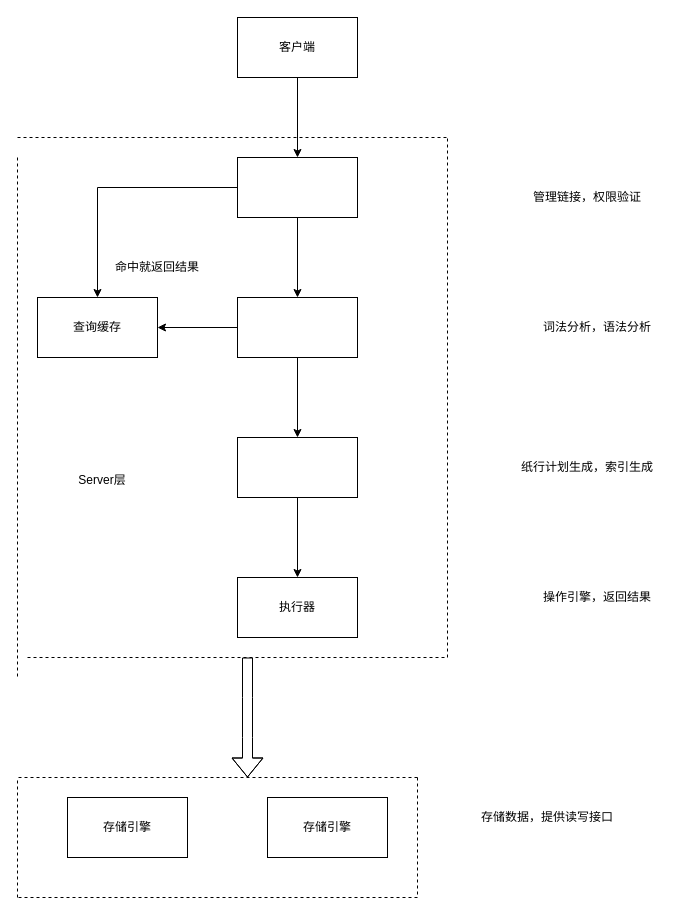
This 695x916 diagram has some shape labels left out. The centre of each missing label's shape, as x and y in pixels:
优化器: [297,467]
分析器: [297,327]
连接器: [297,187]
